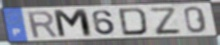0: (183, 5, 208, 34)
6: (91, 9, 117, 36)
D: (117, 7, 150, 37)
M: (51, 8, 95, 39)
R: (25, 10, 60, 40)
Z: (147, 7, 183, 36)
